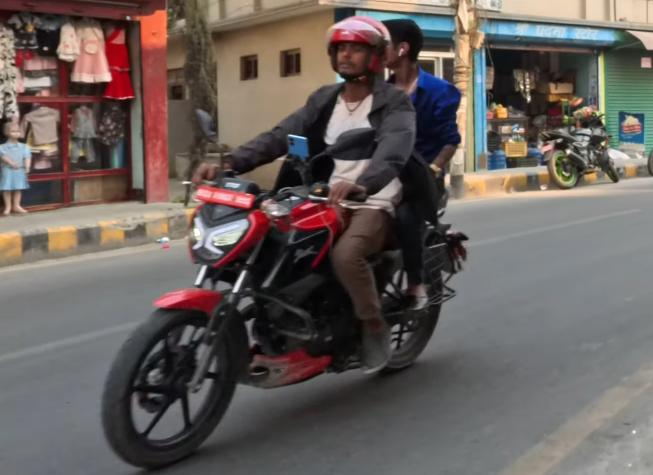bike: (97, 124, 470, 475)
